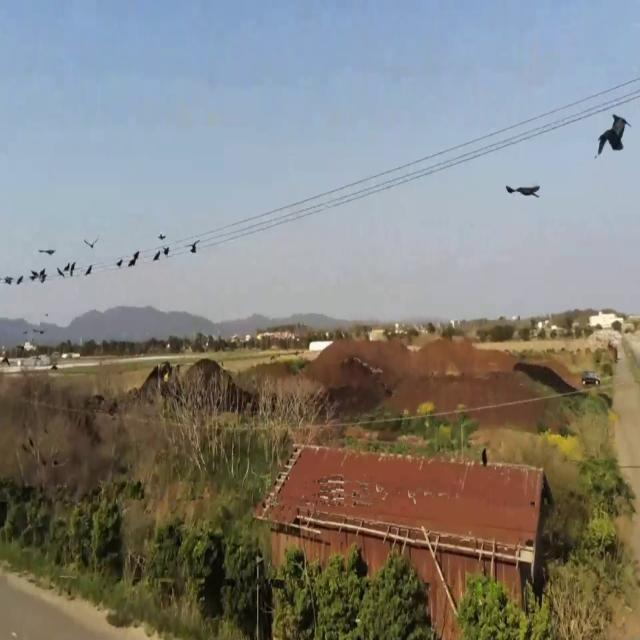bird: (596, 107, 630, 171), (506, 175, 540, 209), (58, 256, 74, 284), (128, 246, 140, 271), (33, 264, 45, 289), (85, 246, 94, 272), (86, 232, 96, 255), (154, 243, 164, 264), (190, 235, 198, 258), (16, 271, 24, 289), (85, 260, 92, 280), (482, 443, 487, 470), (163, 242, 170, 261), (117, 253, 123, 272)
